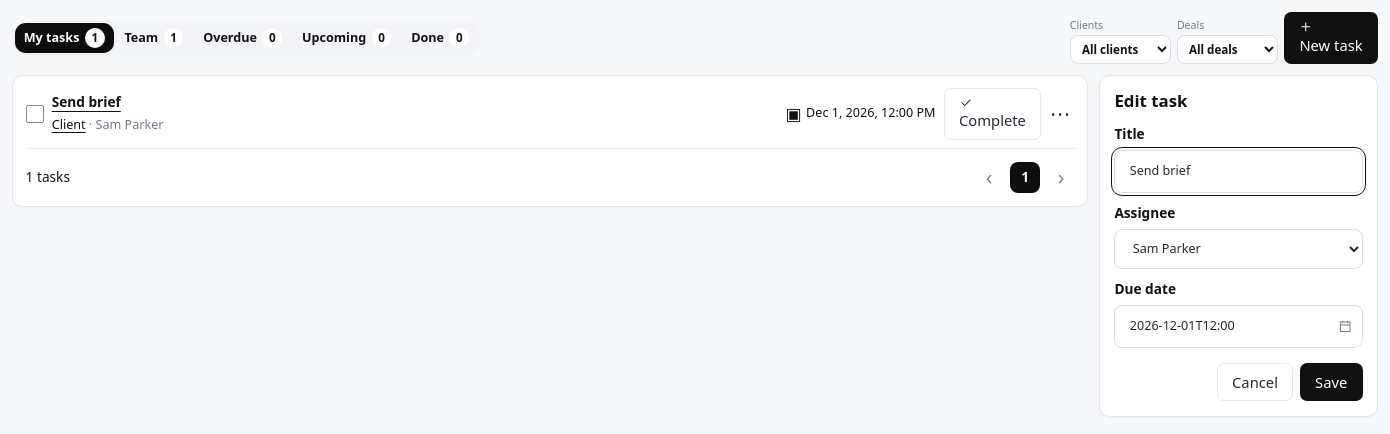
confirms deletion and refreshes tasks and counters after success
The width and height of the screenshot is (1390, 434).
Click the button named "Actions for Send brief" at (1060, 114), box [1046,99,1075,128]
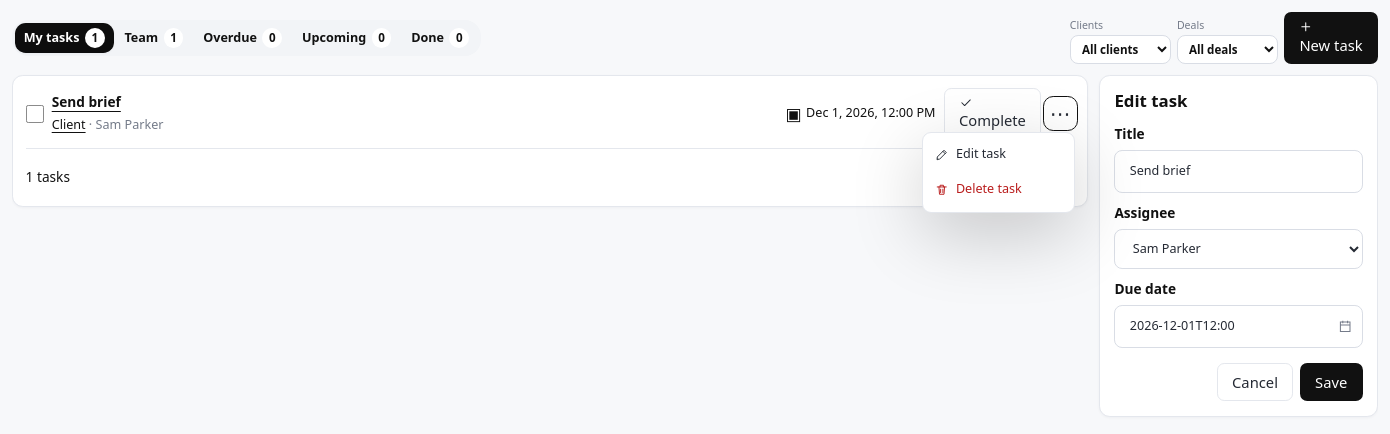
Click the button "Delete task" at (998, 190), box [927,172,1069,207]
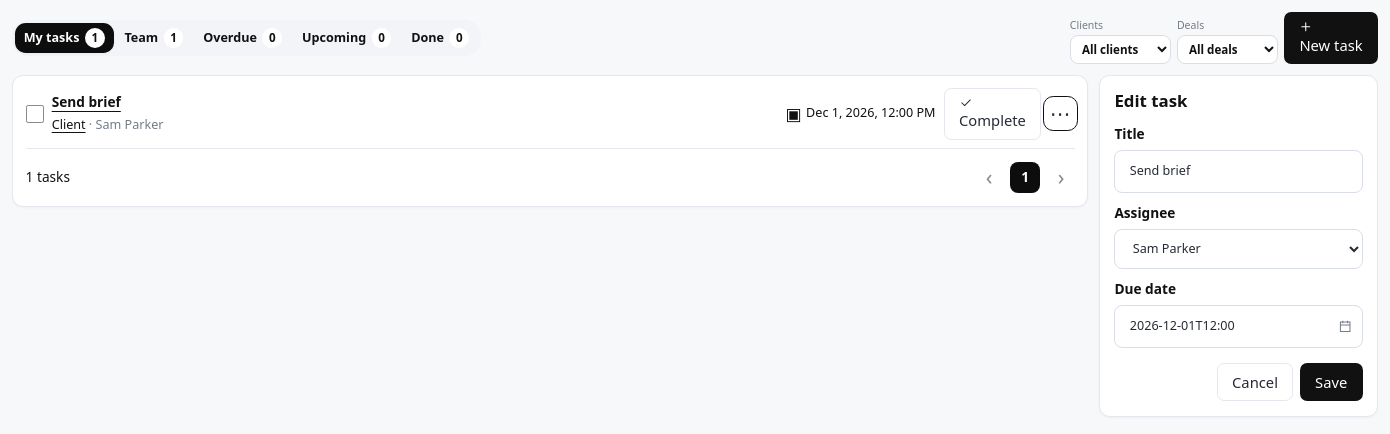
Click the button named "Actions for Send brief" at (1060, 114), box [1046,99,1075,128]
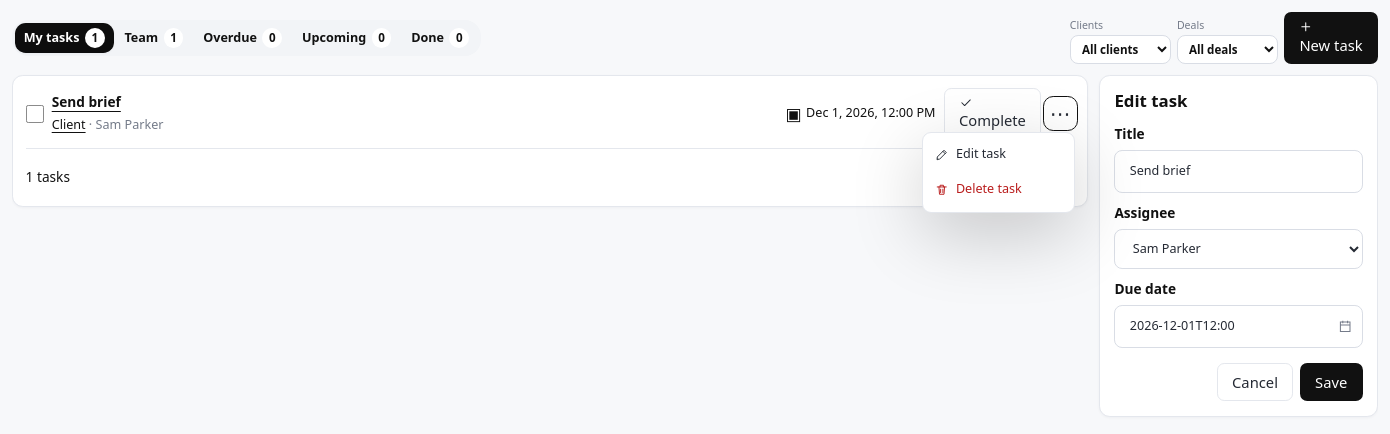
Click the button "Delete task" at (998, 190), box [927,172,1069,207]
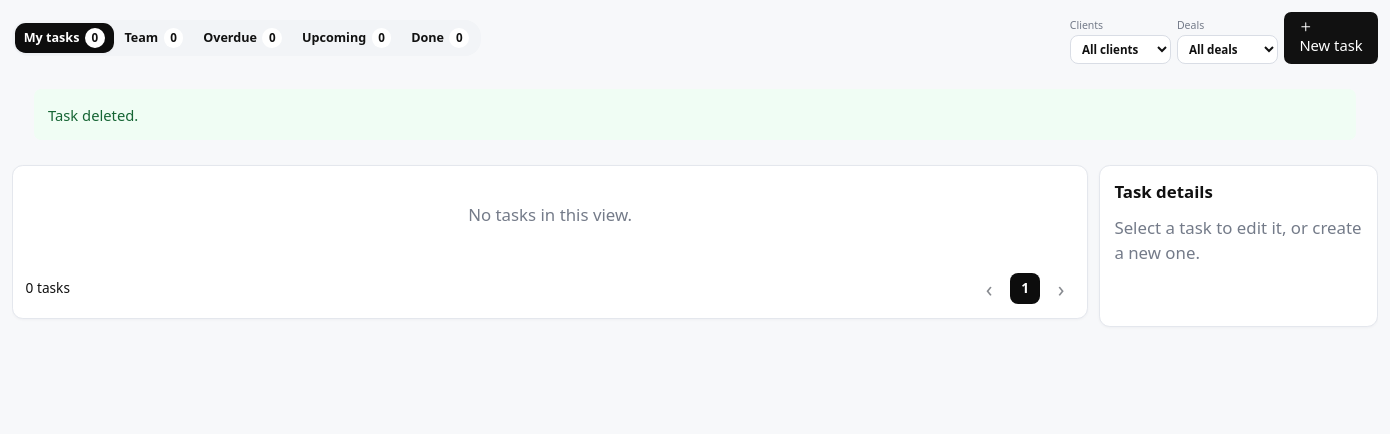
Expected: the text "Task deleted." is shown, [34,89,1356,140]
Expected: the text "No tasks in this view." is shown, [468,203,632,226]
Expected: the button "My tasks 0" is shown, [15,23,114,53]
